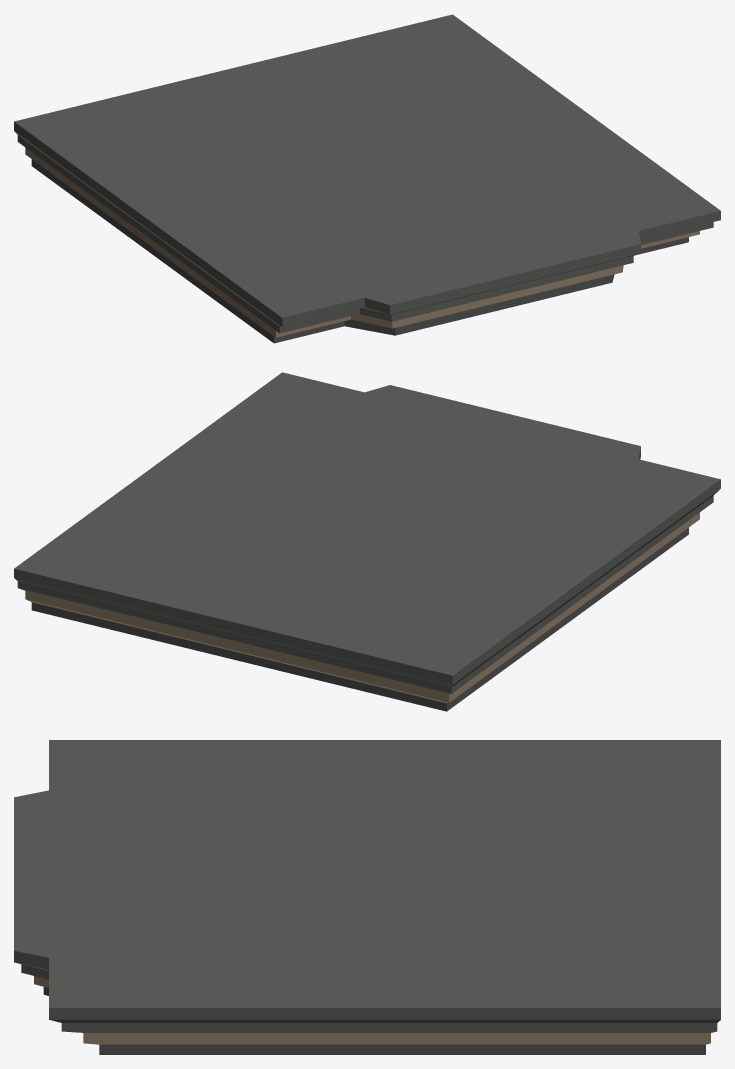
The model's file is SM_Bld_Apartment_Roof_01.fbx.
The picture shows the model from 3 angles, top to bottom: view 1: azimuth 30°, elevation 25°; view 2: azimuth 150°, elevation 25°; view 3: azimuth 270°, elevation 25°; orthographic projection. The views are drawn at different scales.
Visible parts, largest first — view 1: SM_Bld_Apartment_Roof_01; view 2: SM_Bld_Apartment_Roof_01; view 3: SM_Bld_Apartment_Roof_01.
Boxes of the visible parts, x1,y1,x2,y2 form: SM_Bld_Apartment_Roof_01: [14, 14, 720, 343]; SM_Bld_Apartment_Roof_01: [14, 372, 720, 711]; SM_Bld_Apartment_Roof_01: [14, 740, 720, 1054].
Bounding box in the file's own units: 531 × 49.99 × 592.
